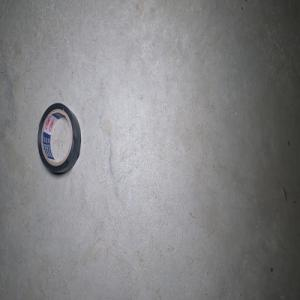Tape: (37, 102, 81, 174)
